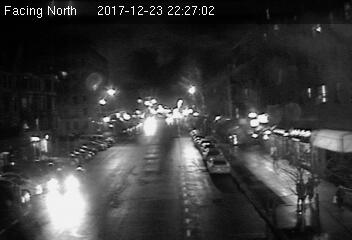car: (208, 155, 228, 173)
